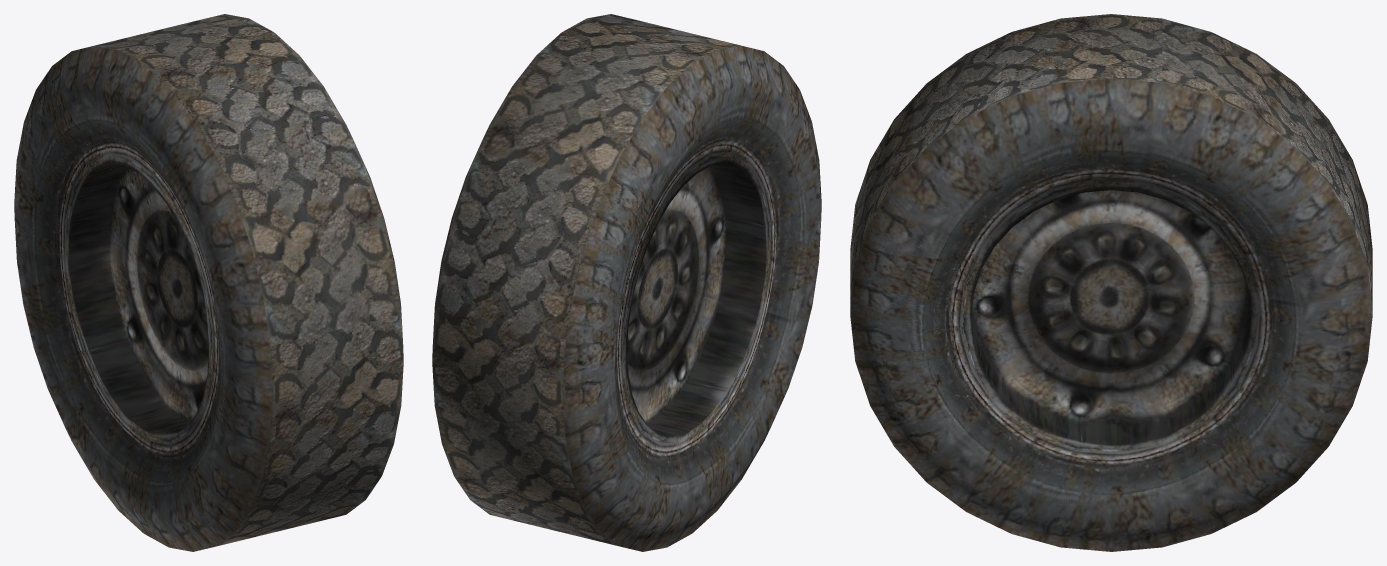
Rendered from hummer_wheel.obj.
The picture shows the model from 3 angles, left to right: view 1: azimuth 30°, elevation 25°; view 2: azimuth 150°, elevation 25°; view 3: azimuth 270°, elevation 25°; orthographic projection.
Parts seen in each view (by area): view 1: Cylinder.001; view 2: Cylinder.001; view 3: Cylinder.001.
Boxes of the visible parts, box(x1,y1,x2,y2) form: Cylinder.001: box(14, 14, 403, 551); Cylinder.001: box(432, 14, 821, 551); Cylinder.001: box(850, 14, 1372, 551).
Bounding box in the file's own units: 0.7278 × 2 × 2.
Materials: 1 (1 with a texture image).
